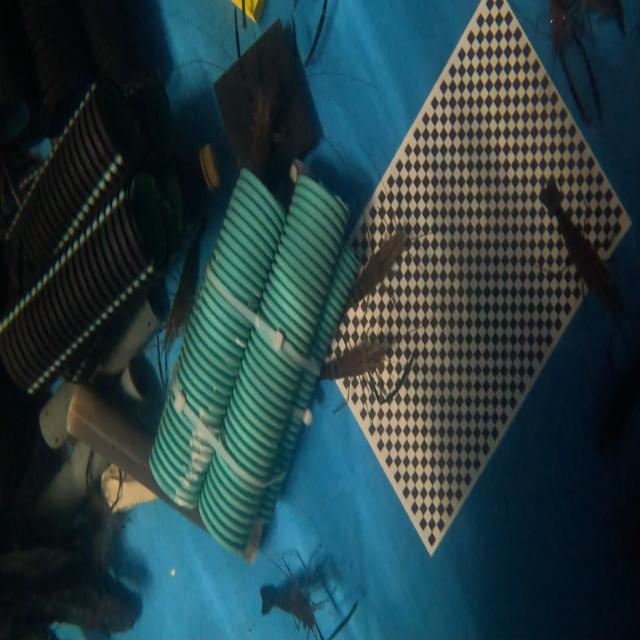prawn: (543, 181, 616, 308), (352, 232, 402, 303), (261, 579, 317, 632), (325, 342, 387, 377)
